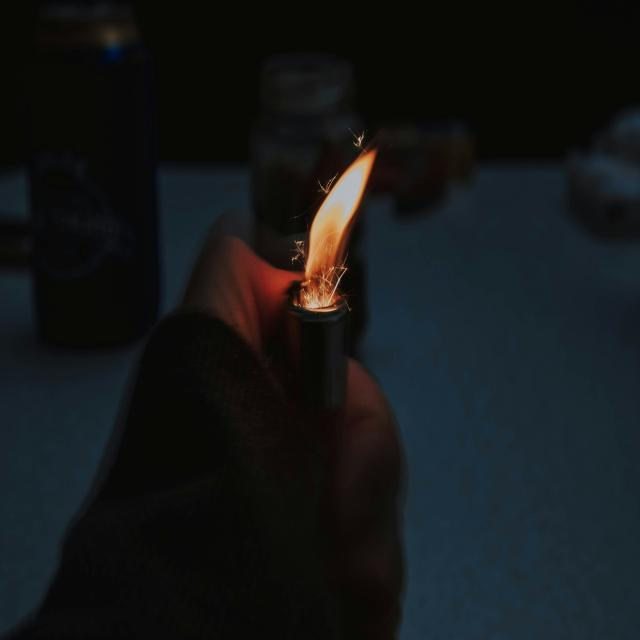fire: (302, 150, 375, 307)
